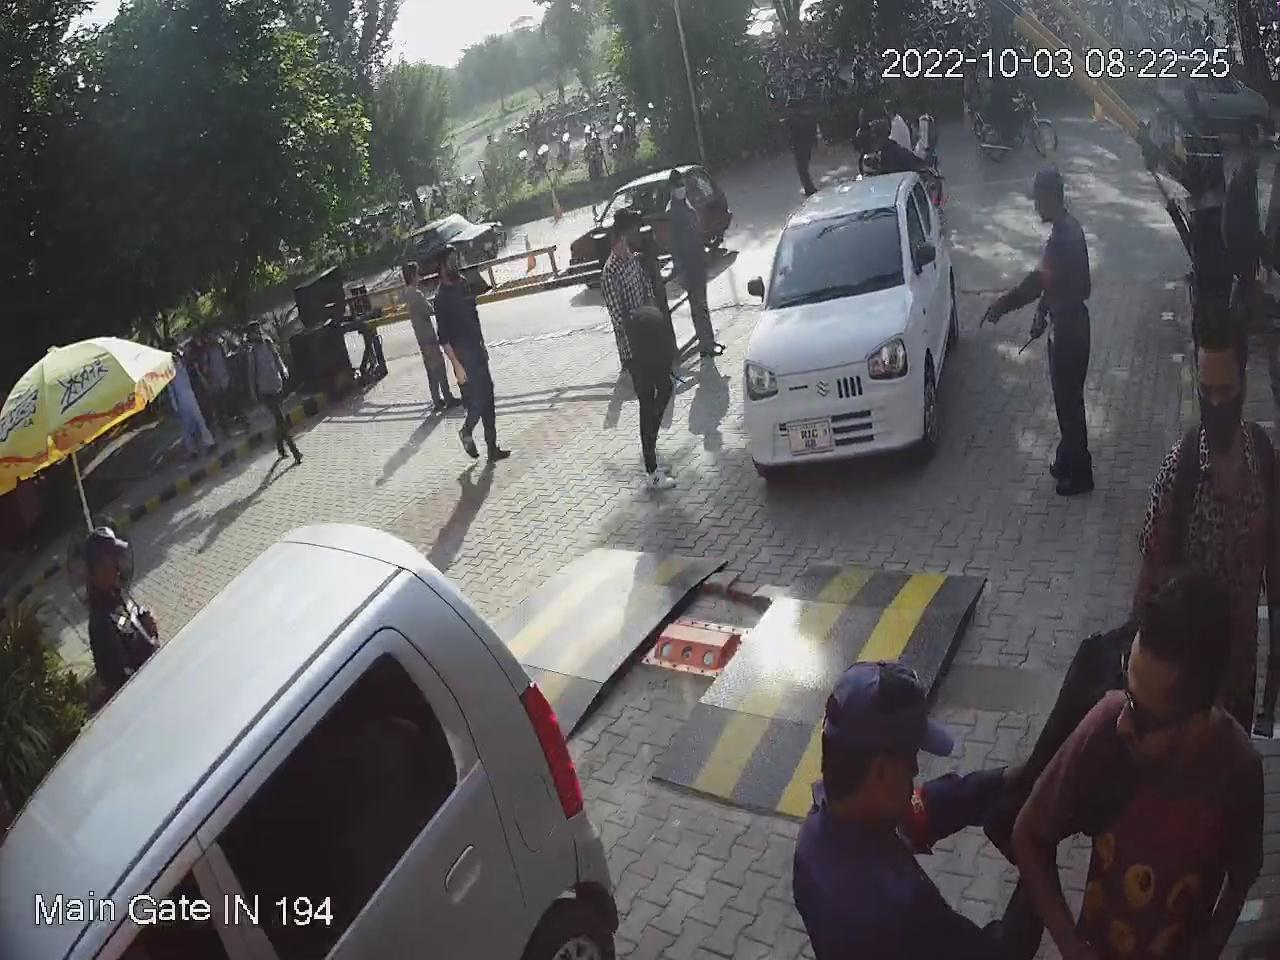windshield: (765, 203, 908, 313)
